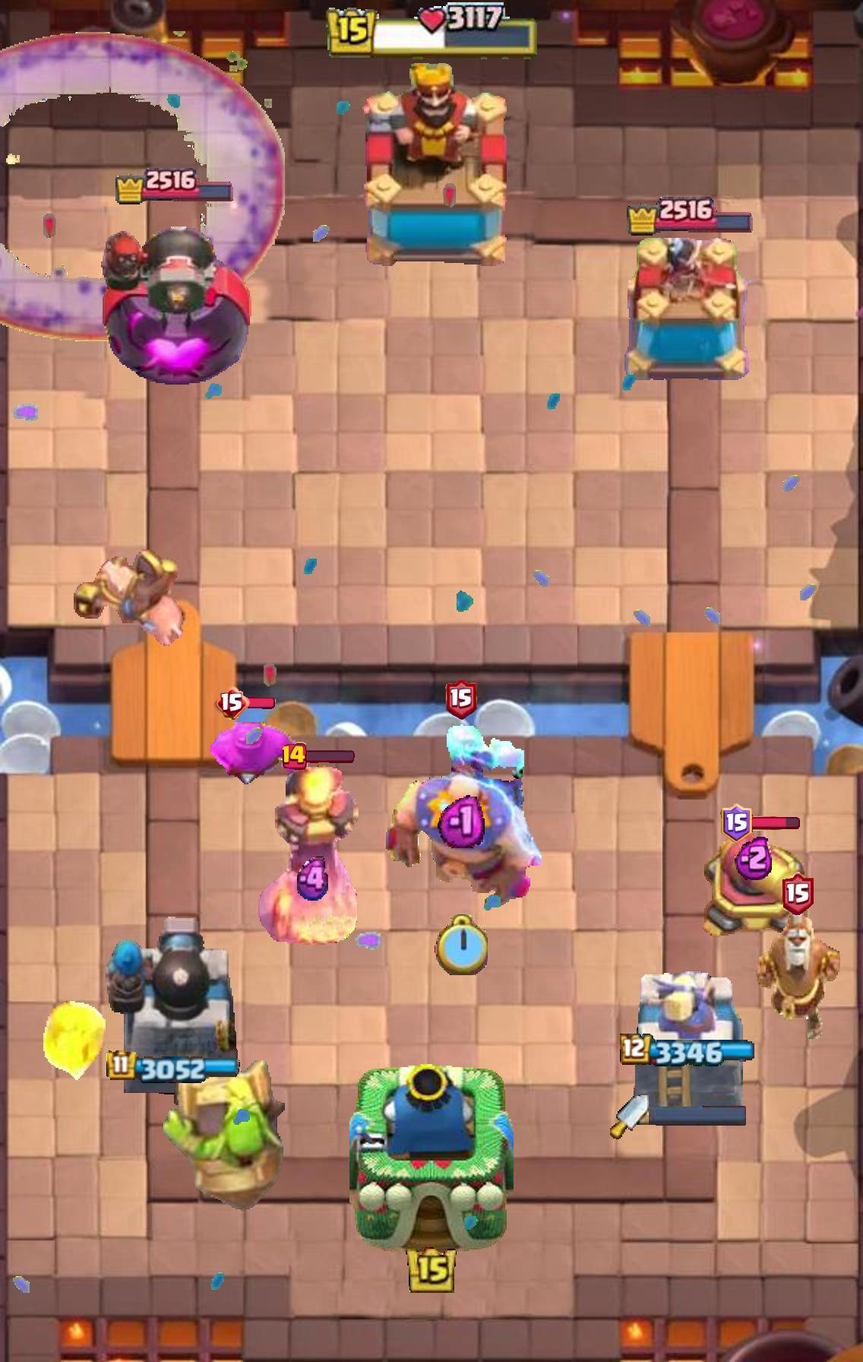bar: (748, 817, 800, 831), (304, 751, 355, 763), (247, 697, 276, 709)
bar-level: (782, 872, 814, 916), (445, 679, 477, 719), (721, 803, 753, 843), (213, 686, 250, 720), (282, 742, 308, 771)
